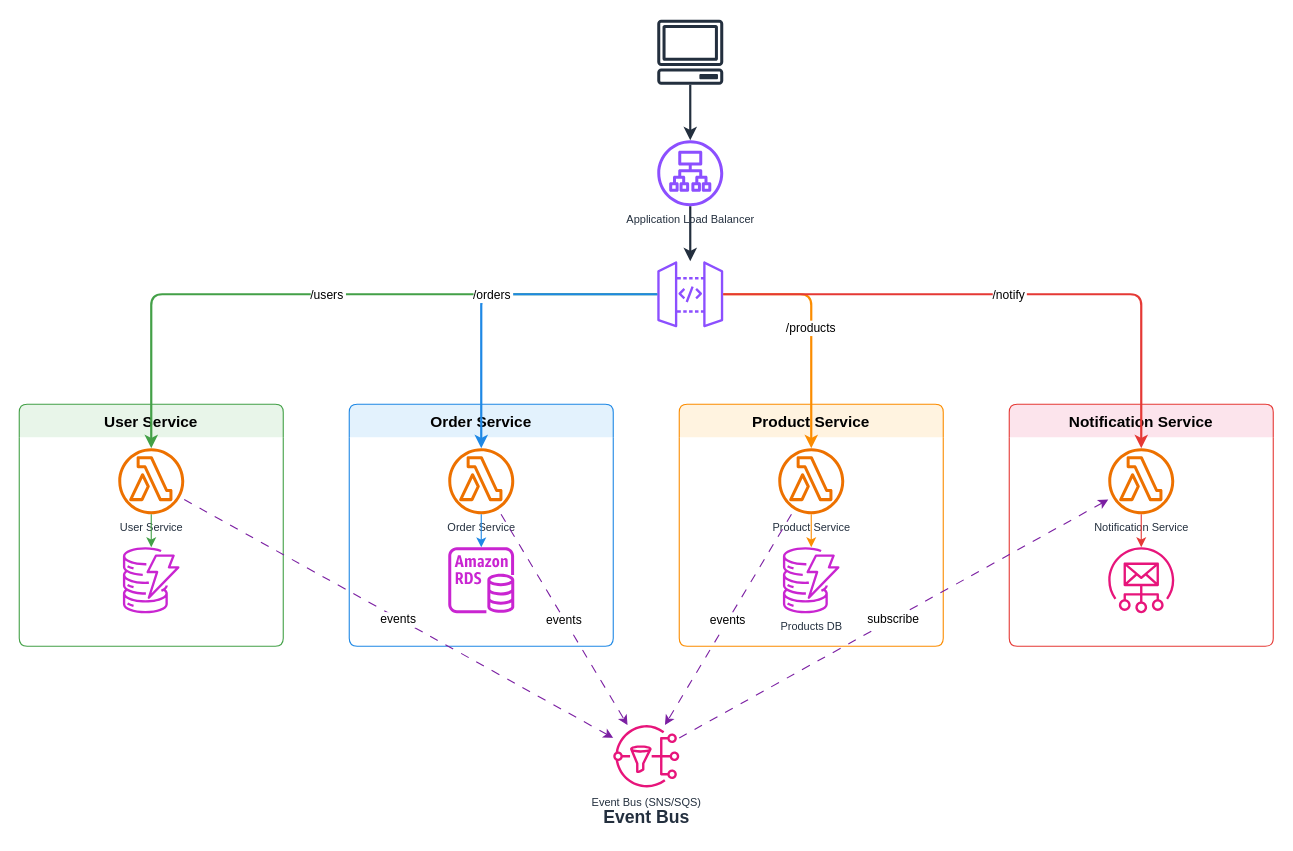
Some shapes in this 1293 by 851 pixel diagram are drawn without their labels. The shapes that lost their labels are listed below. From the top down, each one's centre as x and y in pixels, then its label:
At point (690, 52): "Client Apps".
At point (690, 294): "API Gateway".
At point (151, 580): "Users DB".
At point (481, 580): "Orders DB".
At point (1141, 580): "SES Email".
